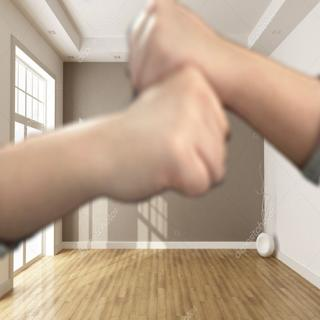CAREFUL: (42, 0, 288, 209)
